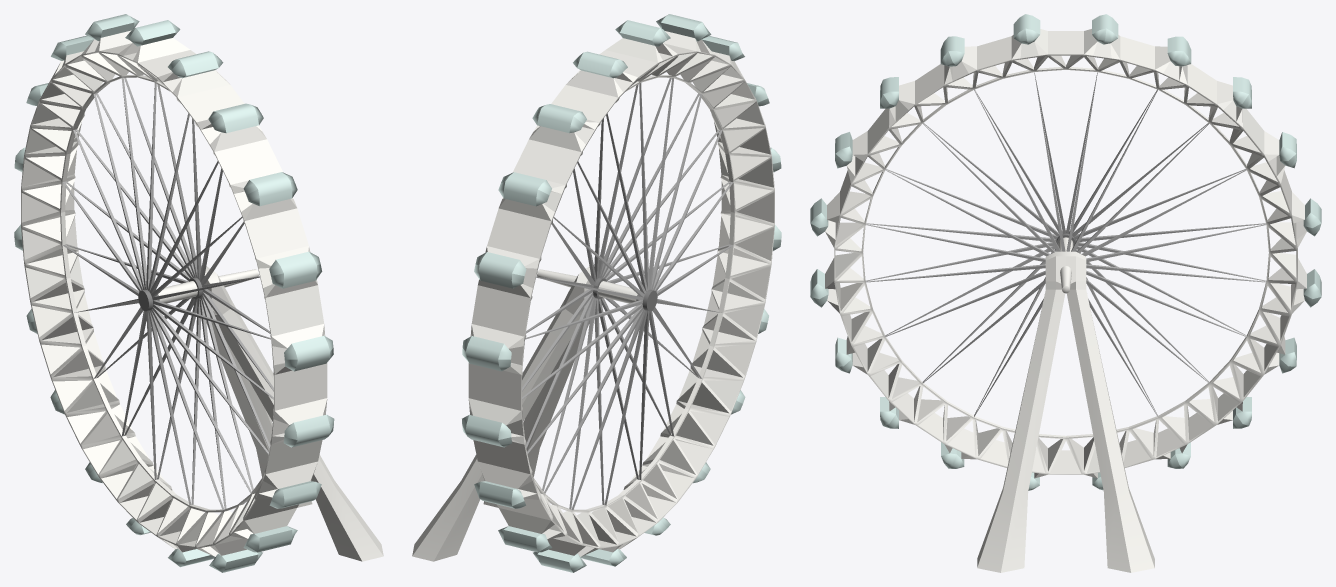
Rendered from LondonEye.fbx.
3 views of the same model, side by side, from view 1: azimuth 30°, elevation 25°; view 2: azimuth 150°, elevation 25°; view 3: azimuth 270°, elevation 25° (orthographic). The views are drawn at different scales.
Parts seen in each view (by area): view 1: Wheel, Rig; view 2: Wheel, Rig; view 3: Wheel, Rig.
Part boxes in pixels (x1,y1,x2,y2): Wheel: (14,14,334,572); Rig: (191,266,383,561); Wheel: (462,14,781,572); Rig: (412,266,604,561); Wheel: (810,14,1321,490); Rig: (977,251,1154,572).
Size of the model in its own units: 19.05 by 46.83 by 45.67.
1 material, 1 textured.
